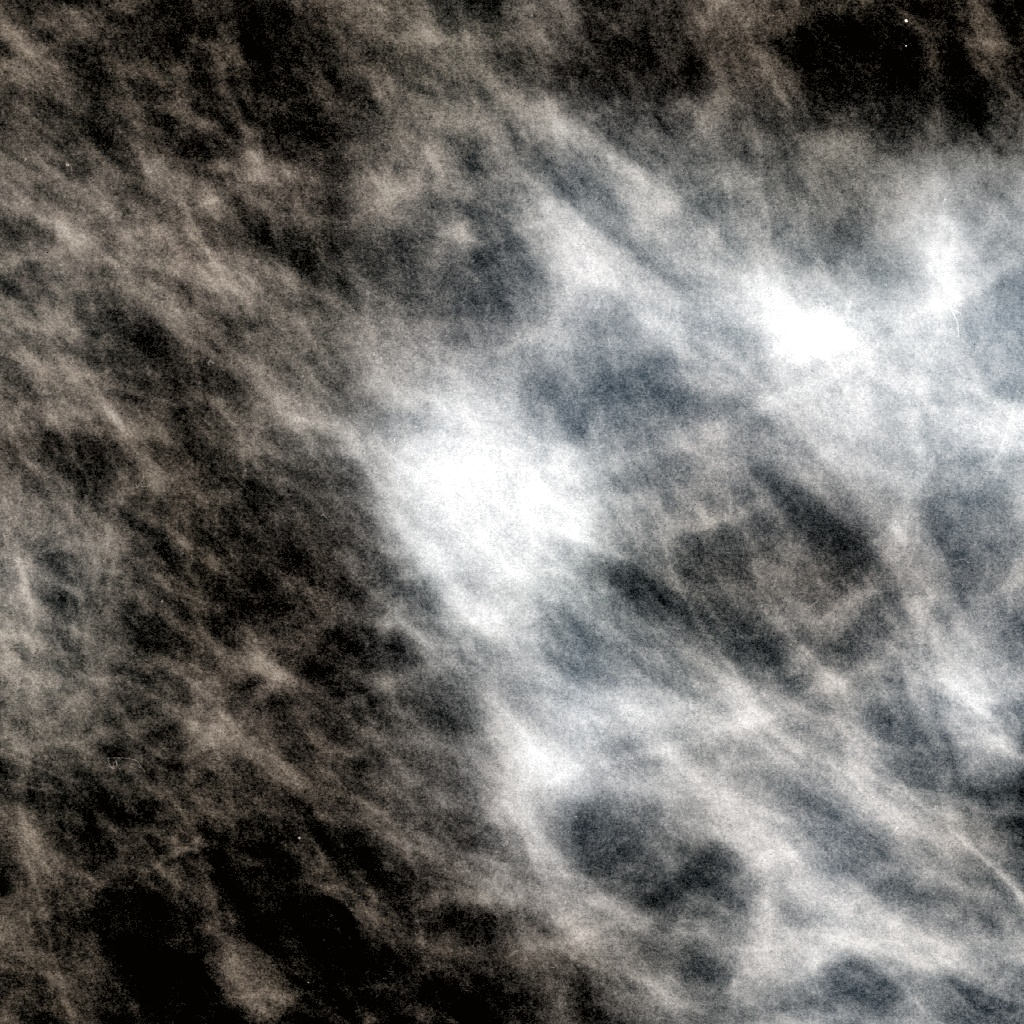tumor: (355, 356, 669, 668)
